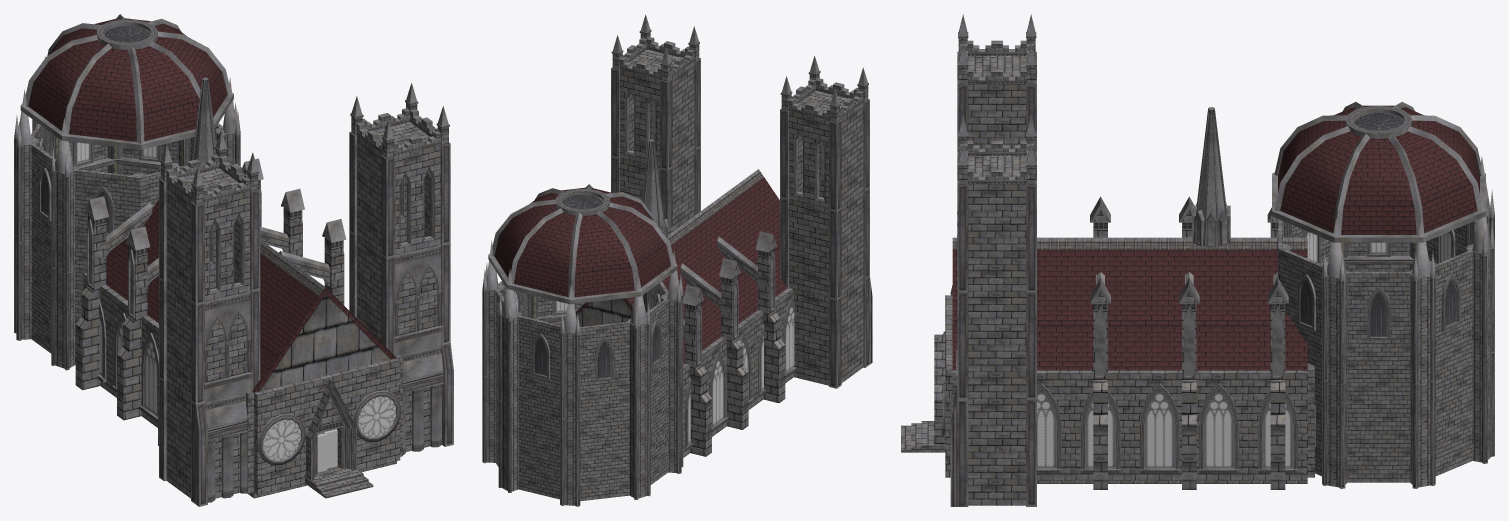
File: GrandCathedral.fbx
3 renders of one model, left to right at view 1: azimuth 30°, elevation 25°; view 2: azimuth 150°, elevation 25°; view 3: azimuth 270°, elevation 25°, orthographic. The views are drawn at different scales.
Visible parts, largest first — view 1: GrandCathedral; view 2: GrandCathedral; view 3: GrandCathedral.
Part boxes in pixels (<box>): GrandCathedral: <box>14,14,453,506</box>; GrandCathedral: <box>482,14,872,506</box>; GrandCathedral: <box>901,14,1494,506</box>.
Bounding box in the file's own units: 4280 × 5495 × 8034.
